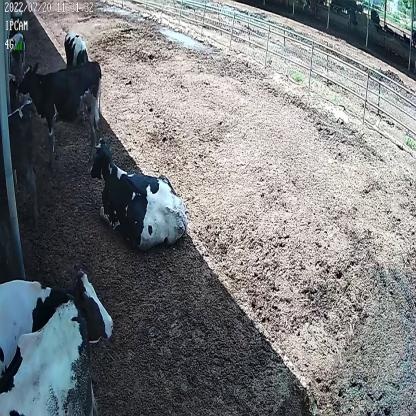cow: (0, 265, 113, 399), (88, 136, 189, 252), (19, 60, 102, 156), (61, 30, 90, 68)
